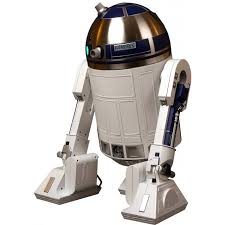r2d2: (34, 2, 191, 223)
